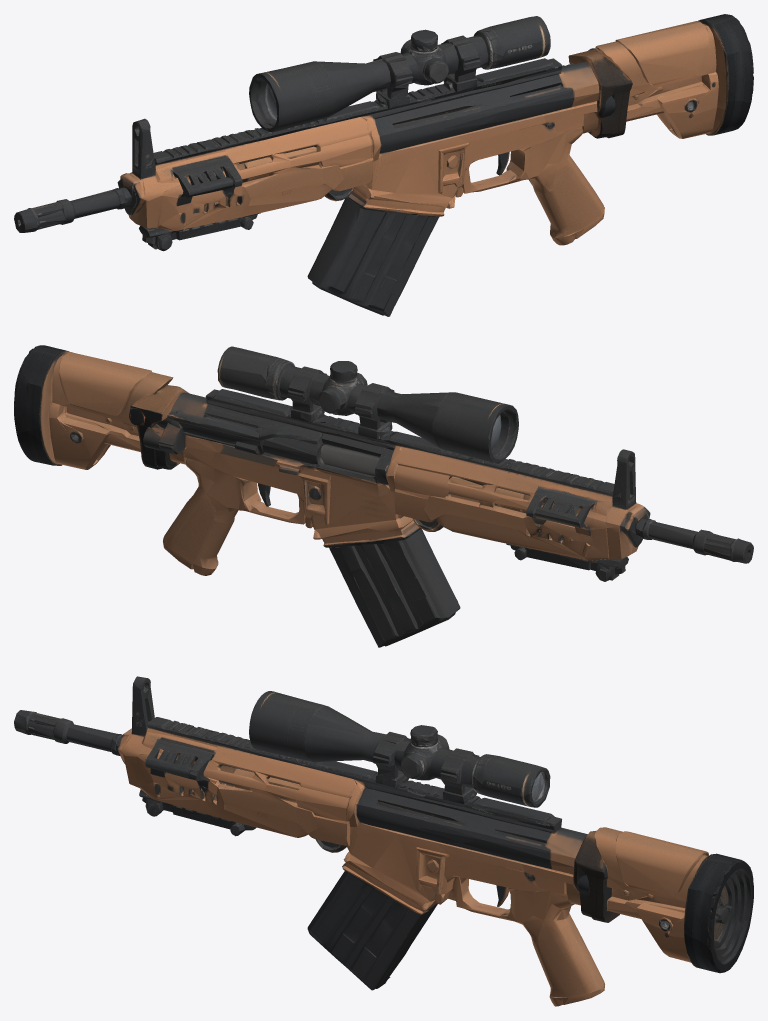
Rendered from longshot.glb.
The picture shows the model from 3 angles, top to bottom: view 1: azimuth 30°, elevation 25°; view 2: azimuth 150°, elevation 25°; view 3: azimuth 330°, elevation 25°; orthographic projection.
Parts seen in each view (by area): view 1: mesh_node; view 2: mesh_node; view 3: mesh_node.
Boxes of the visible parts, x1,y1,x2,y2 form: mesh_node: [14, 14, 753, 316]; mesh_node: [14, 345, 753, 647]; mesh_node: [14, 676, 753, 1006].
Bounding box in the file's own units: 1.9 × 0.6787 × 0.2136.
1 material, 1 textured.
